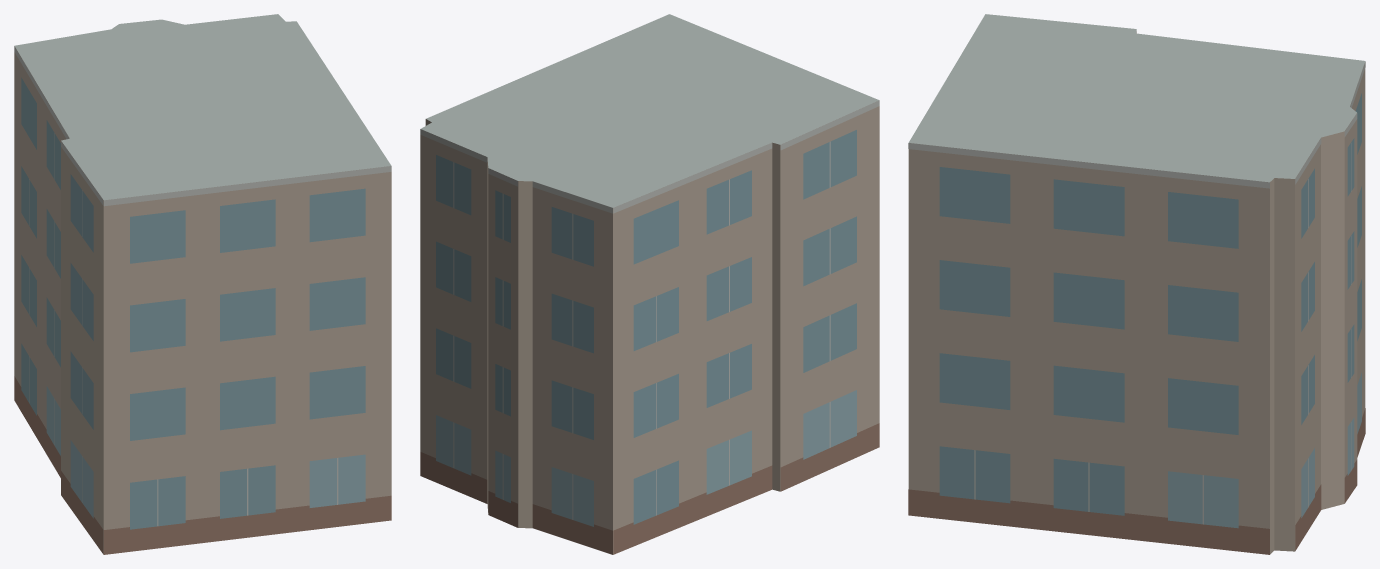
Rendered from survey-upis-32608662.glb.
The picture shows the model from 3 angles, left to right: view 1: azimuth 30°, elevation 25°; view 2: azimuth 150°, elevation 25°; view 3: azimuth 270°, elevation 25°; orthographic projection. The views are drawn at different scales.
Parts seen in each view (by area): view 1: survey-upis-32608662.tmp; view 2: survey-upis-32608662.tmp; view 3: survey-upis-32608662.tmp.
Boxes of the visible parts, <box> form: survey-upis-32608662.tmp: <box>14,14,391,554</box>; survey-upis-32608662.tmp: <box>420,14,879,554</box>; survey-upis-32608662.tmp: <box>908,14,1365,554</box>.
Bounding box in the file's own units: 14.16 × 14.6 × 16.24.
